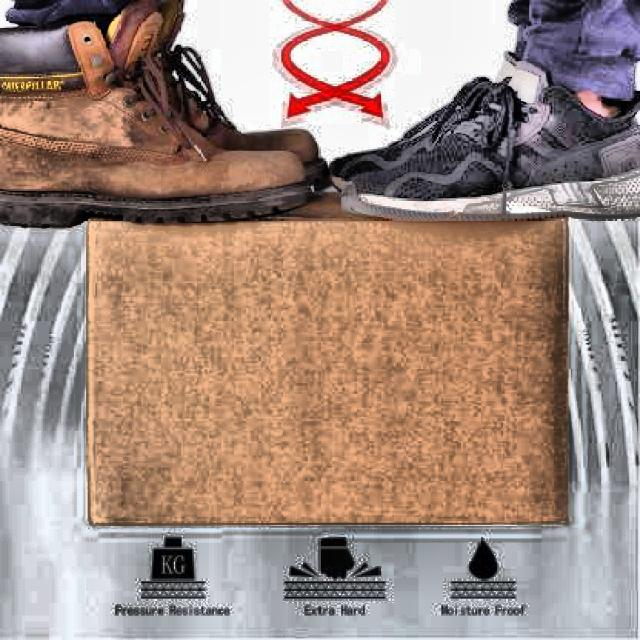Cardbox: (74, 205, 588, 538)
